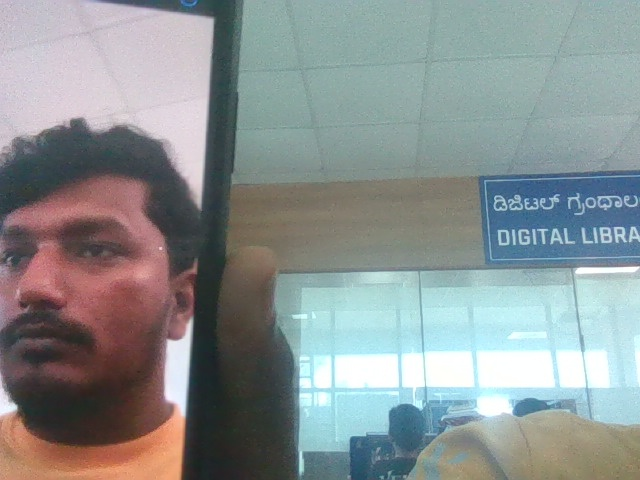fake: (0, 80, 247, 430)
